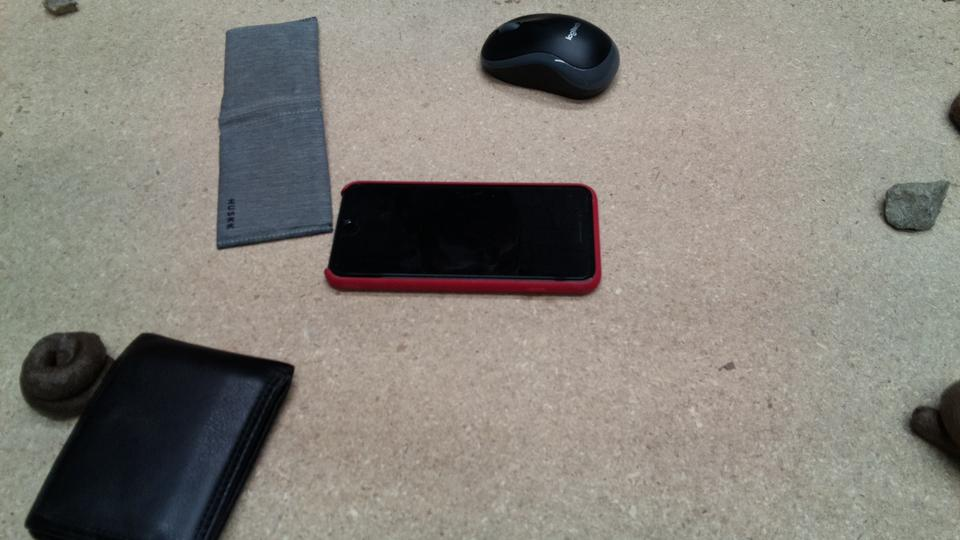poop: (18, 327, 116, 421), (909, 373, 960, 471)
